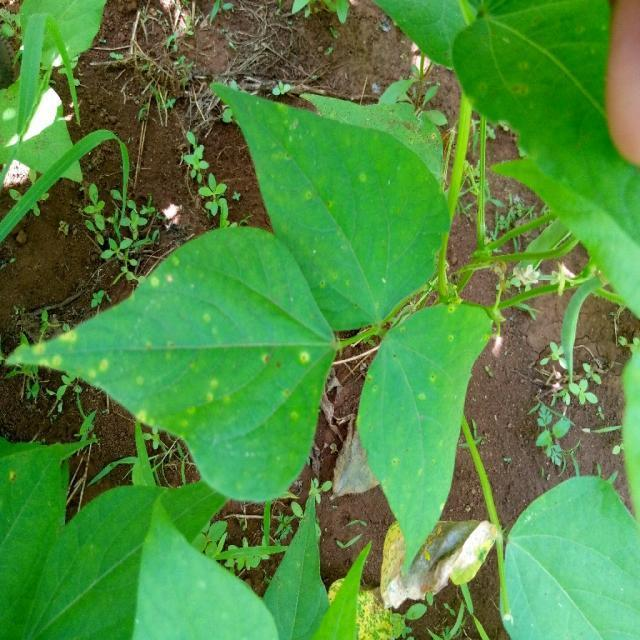hawar: (78, 148, 513, 543)
